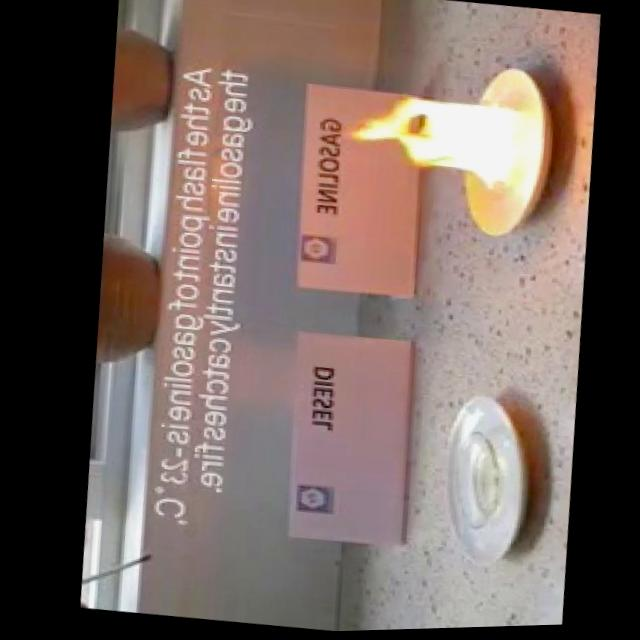Fire: (331, 63, 538, 209)
